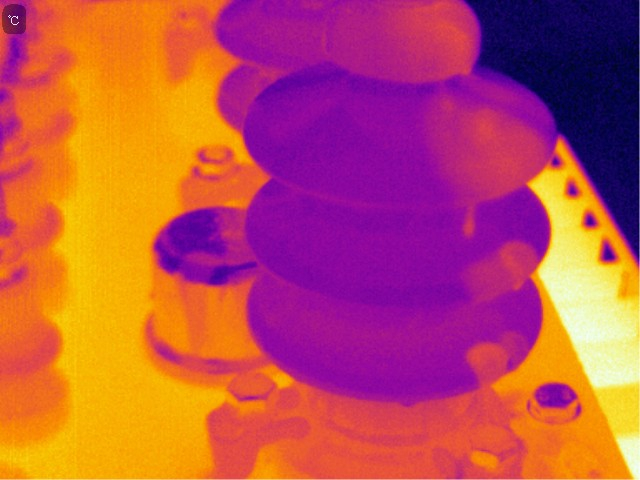Oil: (324, 1, 480, 80), (425, 104, 537, 205), (456, 242, 537, 293), (457, 327, 527, 381), (466, 78, 523, 106), (460, 205, 482, 237), (436, 81, 453, 105), (401, 395, 417, 407)
